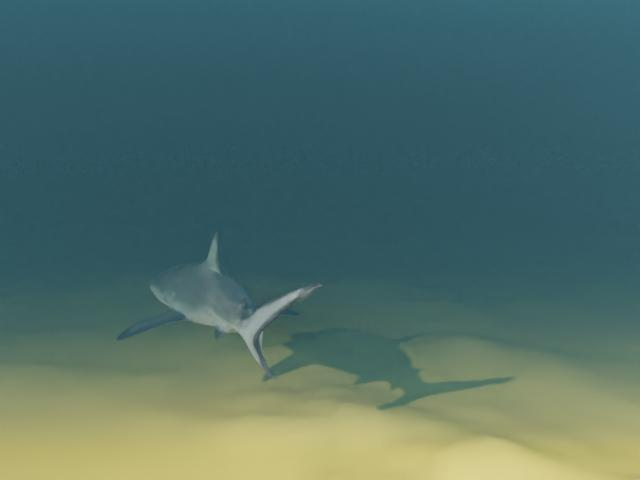Carribean Shark.001: (115, 231, 321, 379)
